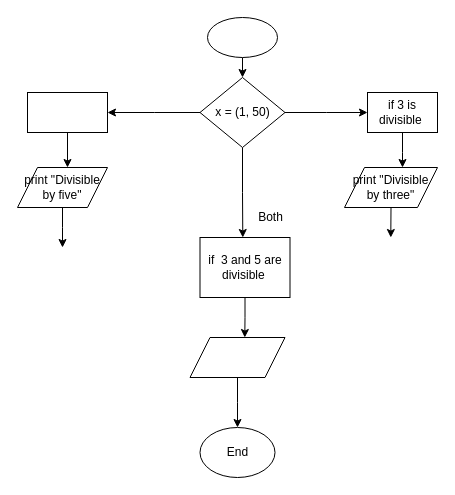
The diagram is 455 pixels wide and 495 high, and some of its shapes have lost their labels. Here are the shapes that lost their labels. From the top down, the centre of each, then its label:
point 242,37: Start
point 67,112: if 5 is divisible
point 237,357: print "Divisible by both"
